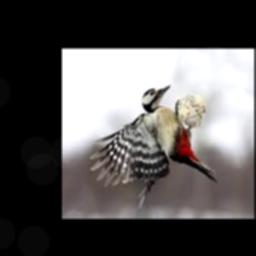Woodpecker: (90, 85, 218, 207)
